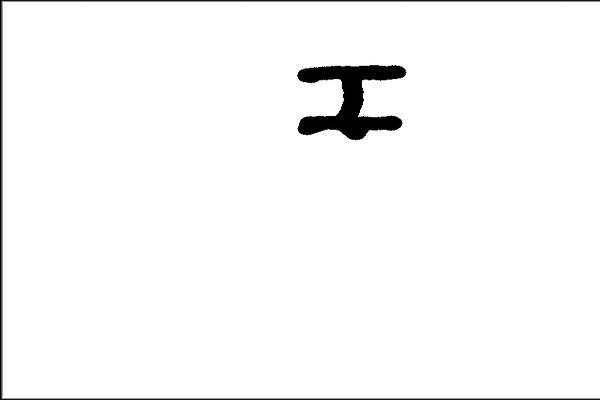i: (291, 54, 410, 143)
